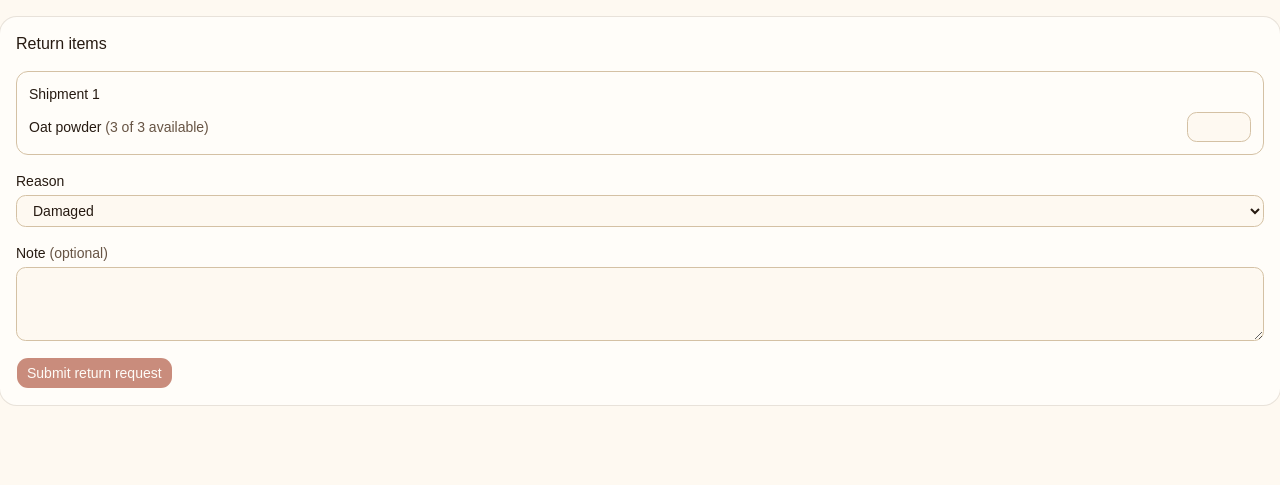
Scenario: ReturnPanel › handles 422 quantity unavailable by refreshing
Check: the text "Oat powder" is shown, box [29, 119, 101, 135]
Type "1" into the number field named "Quantity to return for Oat powder" at (1219, 127), box [1187, 112, 1251, 142]
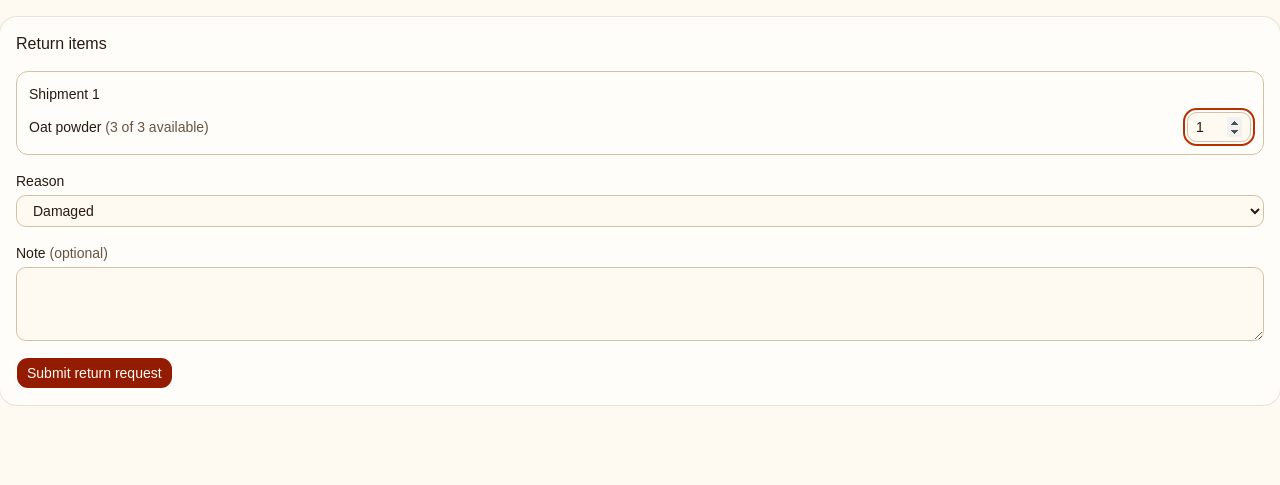
Click the button "Submit return request" at (94, 373), box [16, 357, 173, 389]
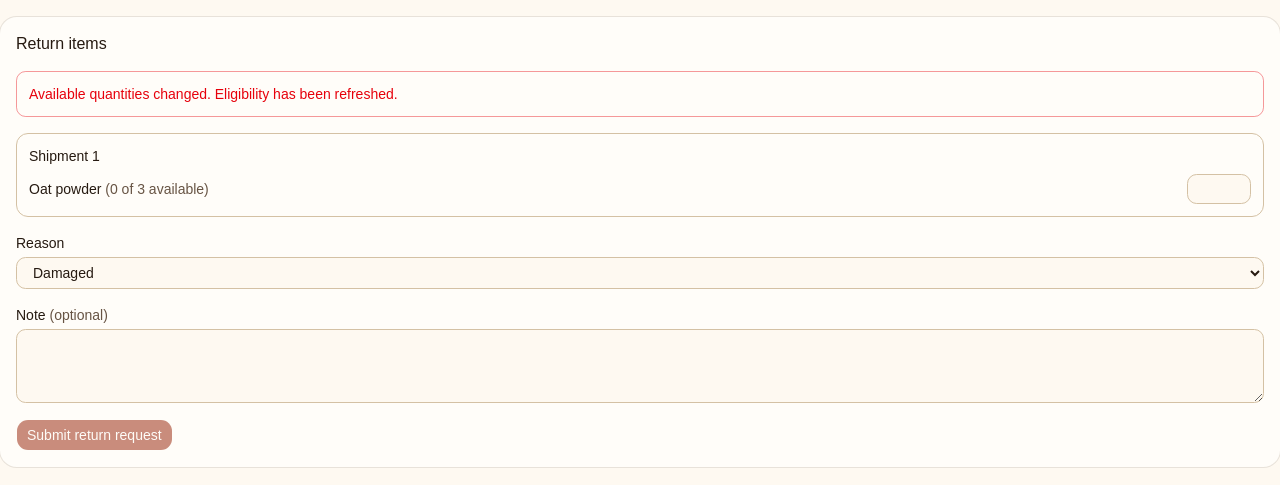
Check: the text "Available quantities changed. Eligibility has been refreshed." is shown, box [16, 71, 1264, 117]
